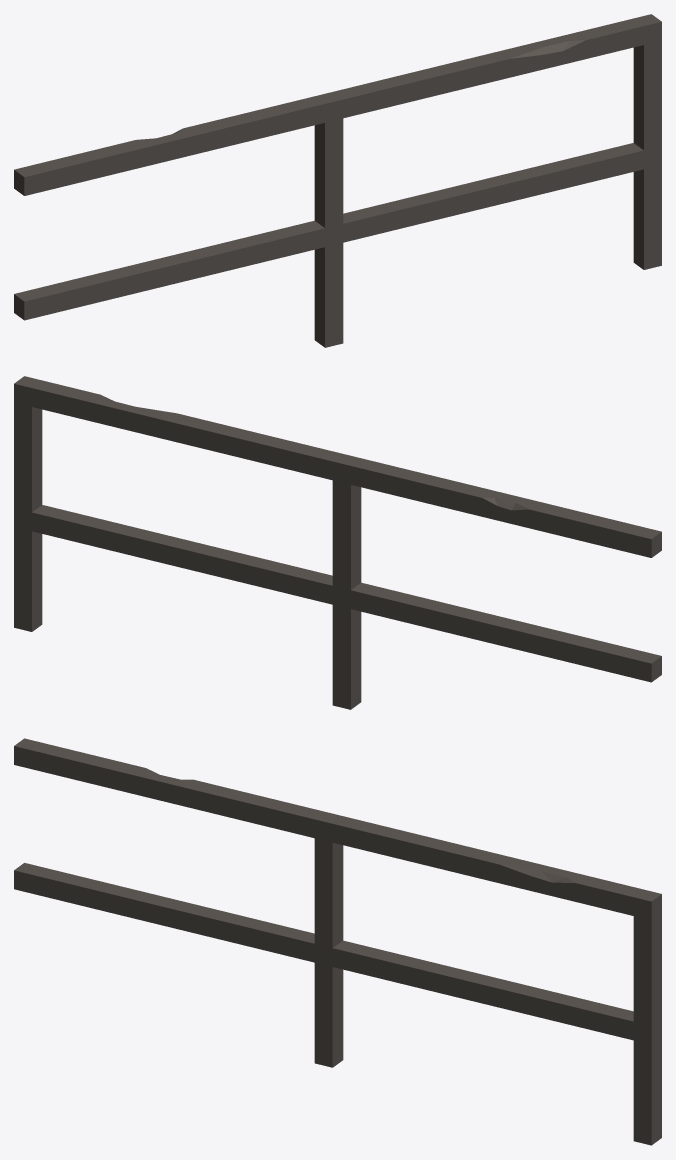
The model's file is Wh_Safety_Rail_End.fbx.
3 renders of one model, top to bottom at view 1: azimuth 30°, elevation 25°; view 2: azimuth 150°, elevation 25°; view 3: azimuth 330°, elevation 25°, orthographic.
Parts seen in each view (by area): view 1: Cube.661; view 2: Cube.661; view 3: Cube.661.
Boxes of the visible parts, x1,y1,x2,y2 form: Cube.661: (14,14,661,347); Cube.661: (14,376,661,709); Cube.661: (14,738,661,1145).
Bounding box in the file's own units: 300 × 110 × 8.5.
